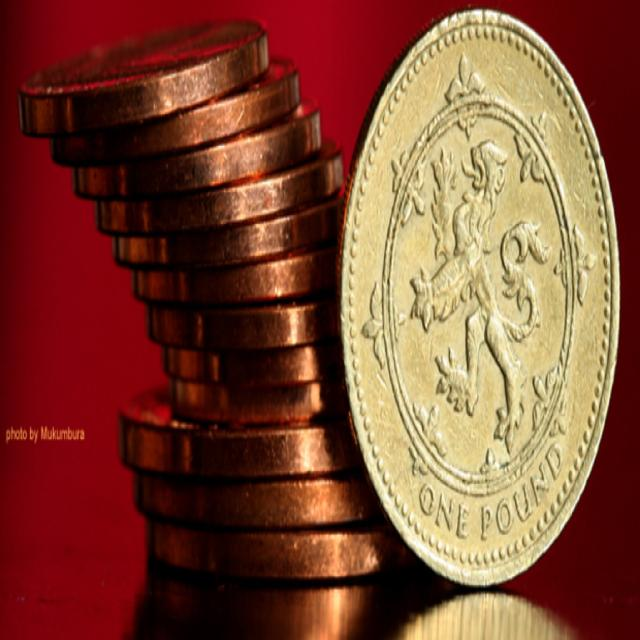Coin: (17, 6, 405, 568), (338, 11, 620, 581)
